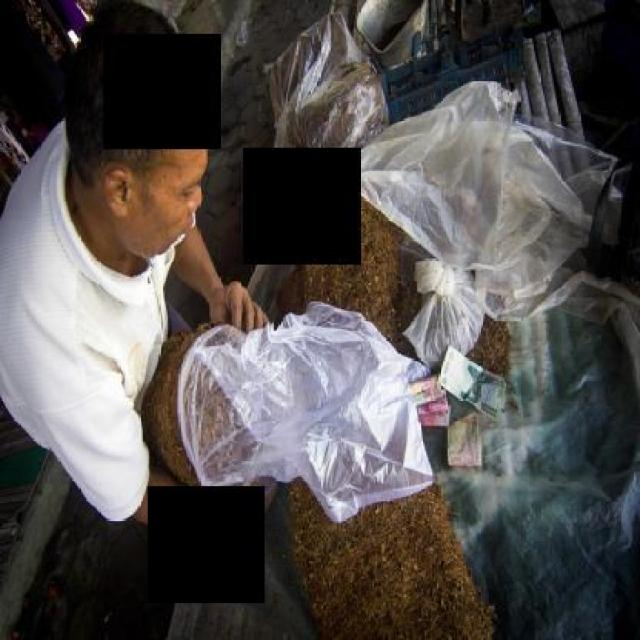plastic bag: (175, 294, 432, 524), (254, 12, 388, 251), (402, 255, 484, 371)
